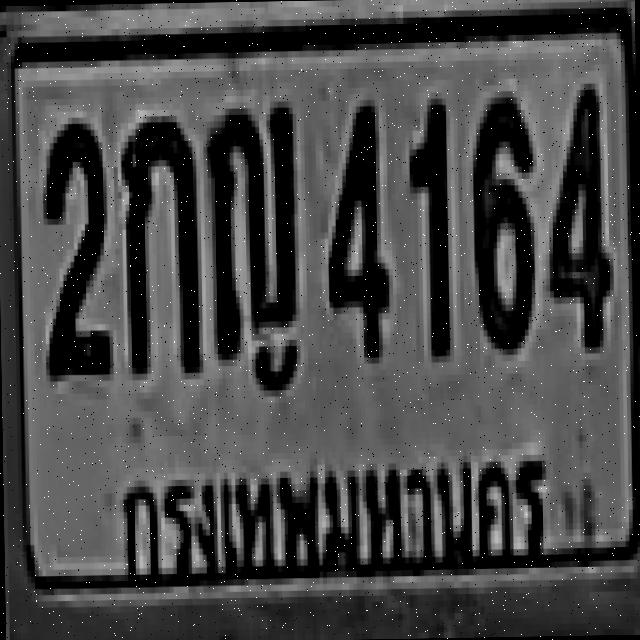1: (404, 95, 450, 353)
10GorGai: (120, 112, 195, 371)
2: (40, 117, 108, 376)
22YorYing: (202, 98, 296, 356)
4: (542, 82, 610, 348), (322, 93, 386, 358)
6: (468, 90, 536, 349)
Bangkok: (110, 441, 555, 581)
